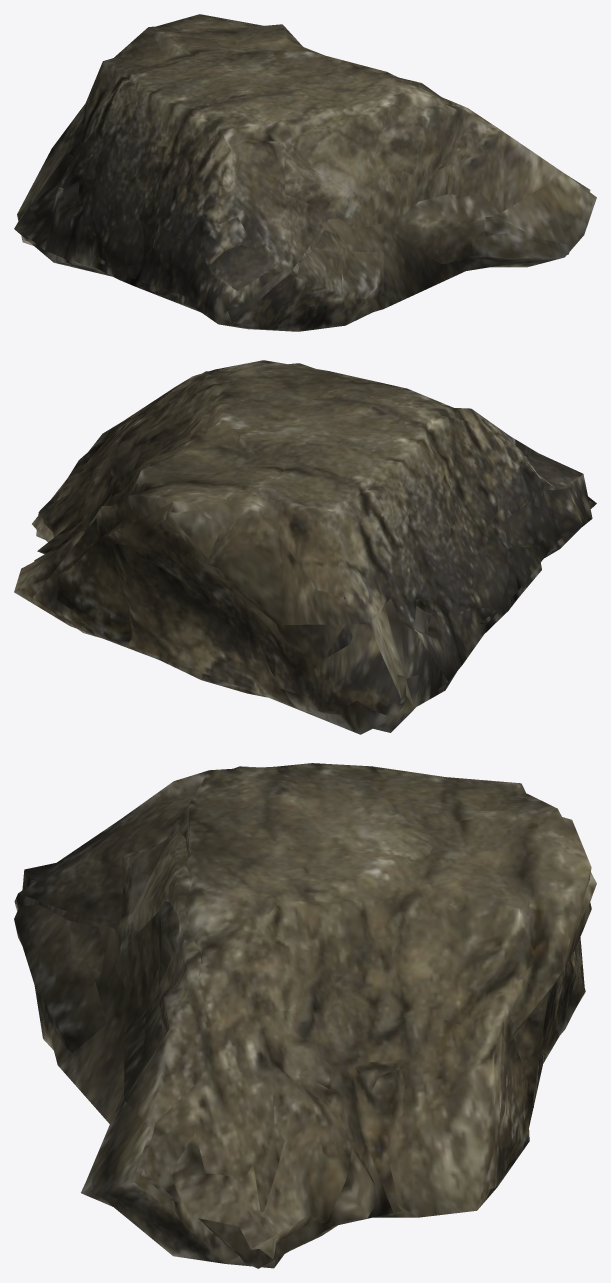
Rendered from rock_01.glb.
3 renders of one model, top to bottom at view 1: azimuth 30°, elevation 25°; view 2: azimuth 150°, elevation 25°; view 3: azimuth 270°, elevation 25°, orthographic. The views are drawn at different scales.
Parts seen in each view (by area): view 1: Rock_01_LOD2, Rock_01_LOD3; view 2: Rock_01_LOD2, Rock_01_LOD3; view 3: Rock_01_LOD2, Rock_01_LOD3.
Part boxes in pixels (x1,y1,x2,y2): Rock_01_LOD2: (17,14,596,331); Rock_01_LOD3: (14,26,590,328); Rock_01_LOD2: (14,360,592,732); Rock_01_LOD3: (32,363,596,734); Rock_01_LOD2: (14,763,591,1268); Rock_01_LOD3: (14,766,596,1268).
Bounding box in the file's own units: 1.21 × 0.5178 × 0.9826.
Materials: 1 (1 with a texture image).
